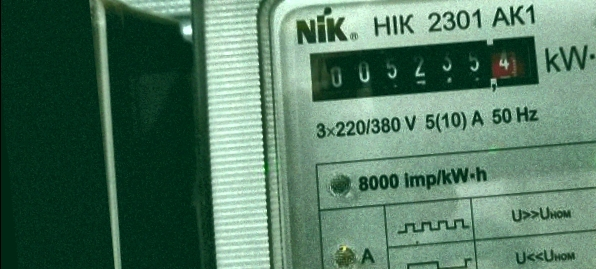0: (328, 62, 346, 89), (356, 57, 373, 84)
2: (411, 51, 427, 77)
3: (439, 46, 455, 73)
4: (496, 45, 513, 72)
5: (466, 45, 483, 73), (383, 54, 400, 81)
screen: (299, 21, 552, 114)
